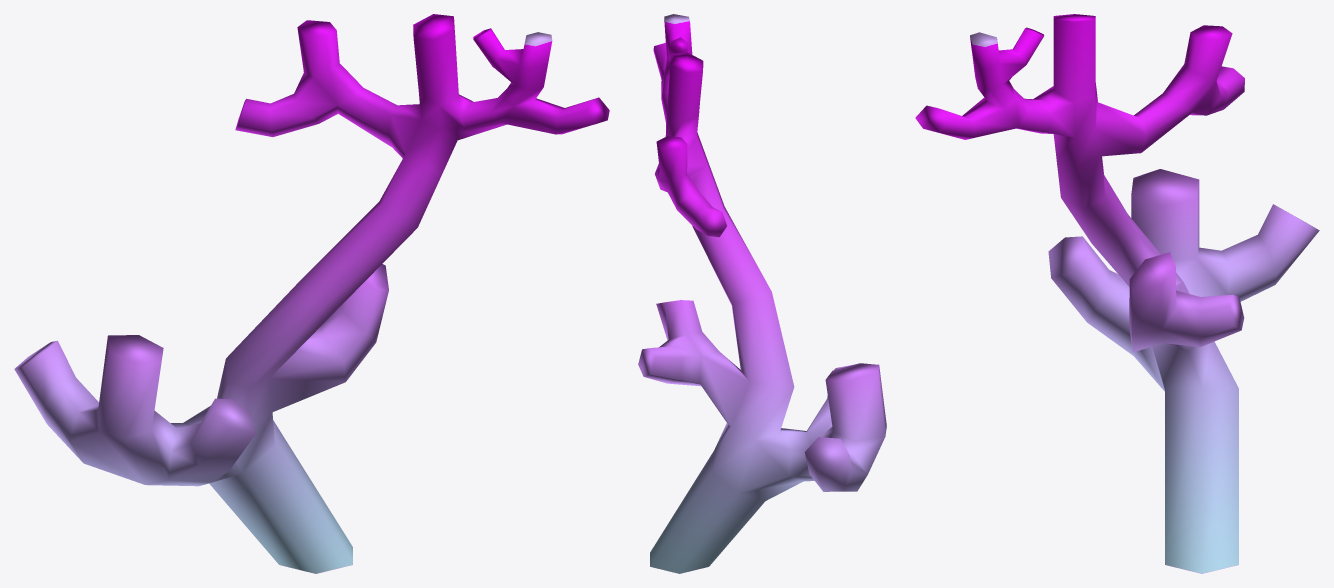
The model's file is MOD_Coral9.fbx.
3 views of the same model, side by side, from view 1: azimuth 30°, elevation 25°; view 2: azimuth 150°, elevation 25°; view 3: azimuth 270°, elevation 25° (orthographic). The views are drawn at different scales.
Visible parts, largest first — view 1: MOD_Coral9; view 2: MOD_Coral9; view 3: MOD_Coral9.
Boxes of the visible parts, left/top/right/bottom form: MOD_Coral9: left=14, top=14, right=609, bottom=573; MOD_Coral9: left=638, top=14, right=886, bottom=573; MOD_Coral9: left=915, top=14, right=1319, bottom=573.
Size of the model in its own units: 4.1 by 5.36 by 3.44.
1 material, 1 textured.
